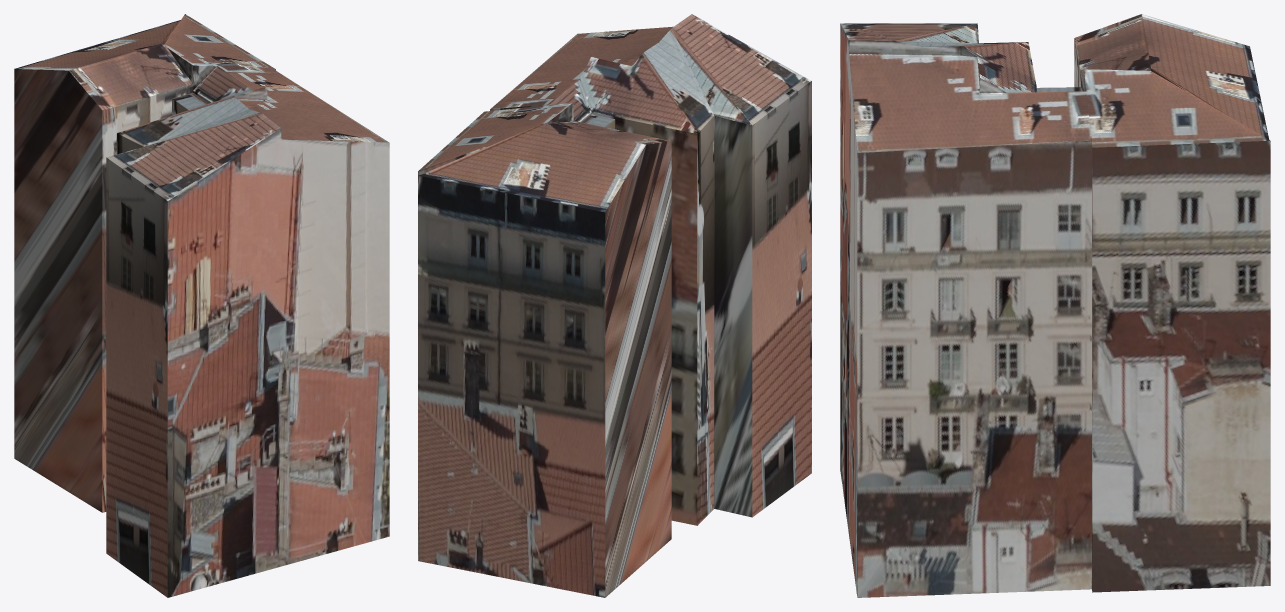
3 views of the same model, side by side, from view 1: azimuth 30°, elevation 25°; view 2: azimuth 150°, elevation 25°; view 3: azimuth 270°, elevation 25° (orthographic). The views are drawn at different scales.
Visible parts, largest first — view 1: Z_UP; view 2: Z_UP; view 3: Z_UP.
Part boxes in pixels (x1,y1,x2,y2): Z_UP: [14, 14, 389, 597]; Z_UP: [418, 14, 811, 597]; Z_UP: [840, 14, 1270, 597].
Size of the model in its own units: 15.39 by 28.04 by 22.05.
2 materials, 1 textured.
